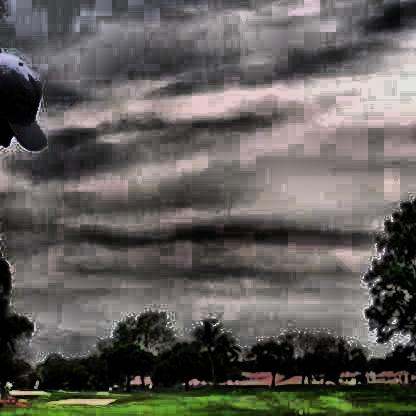golfball: (206, 315, 213, 322)
